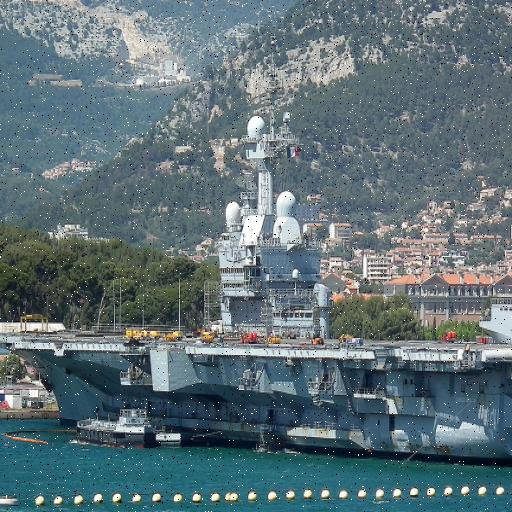Portanaves: (1, 87, 512, 468)
